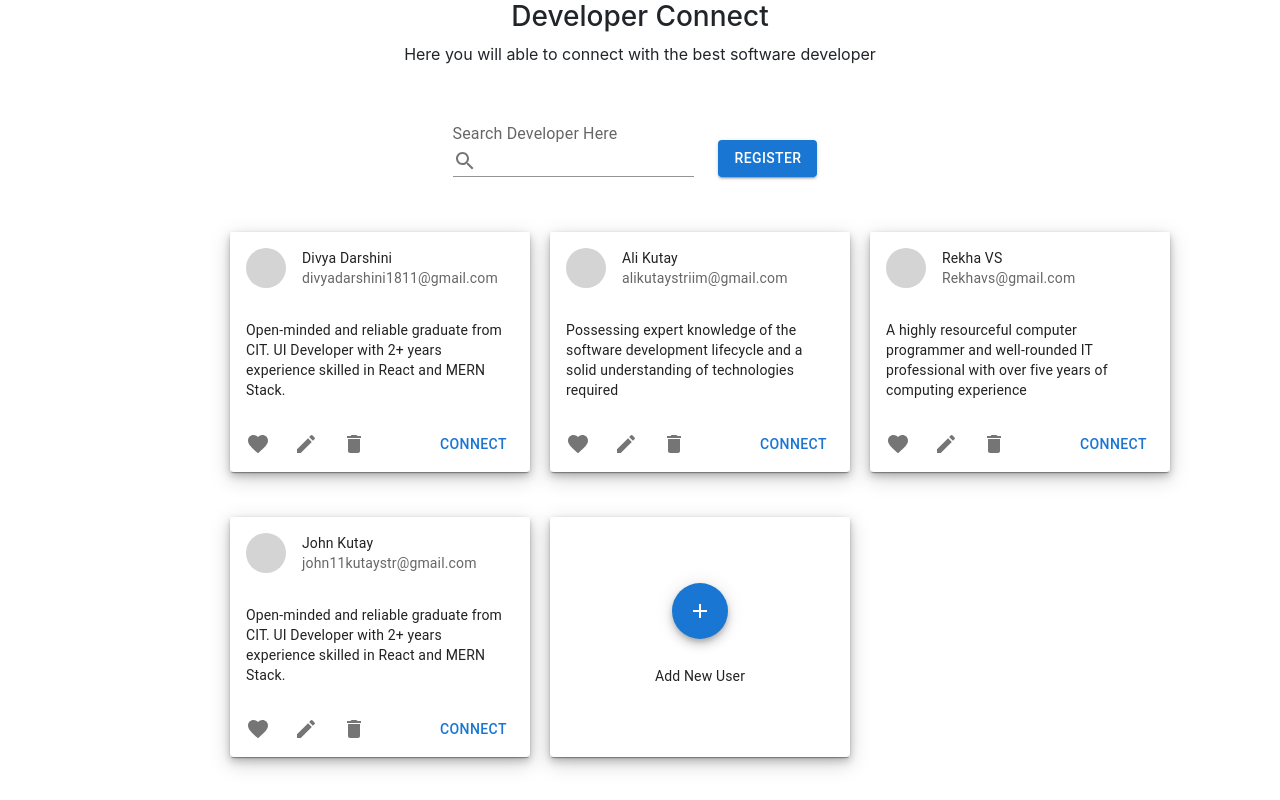
Adding new user test › Succesfully added new user
Click the button named "add" at (700, 611), box x1=672 y1=583 x2=728 y2=639
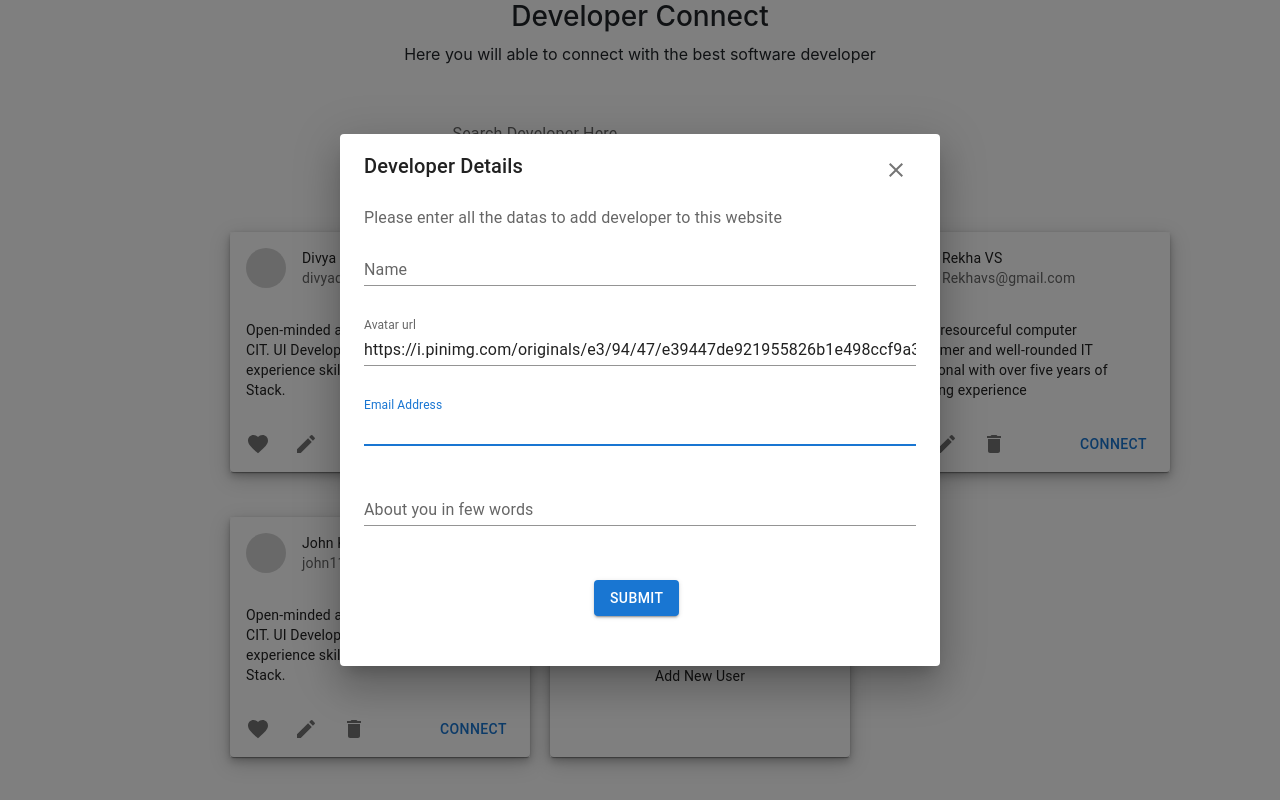
Type "Divia" into the field with id "name" at (640, 270), box x1=364 y1=254 x2=916 y2=286
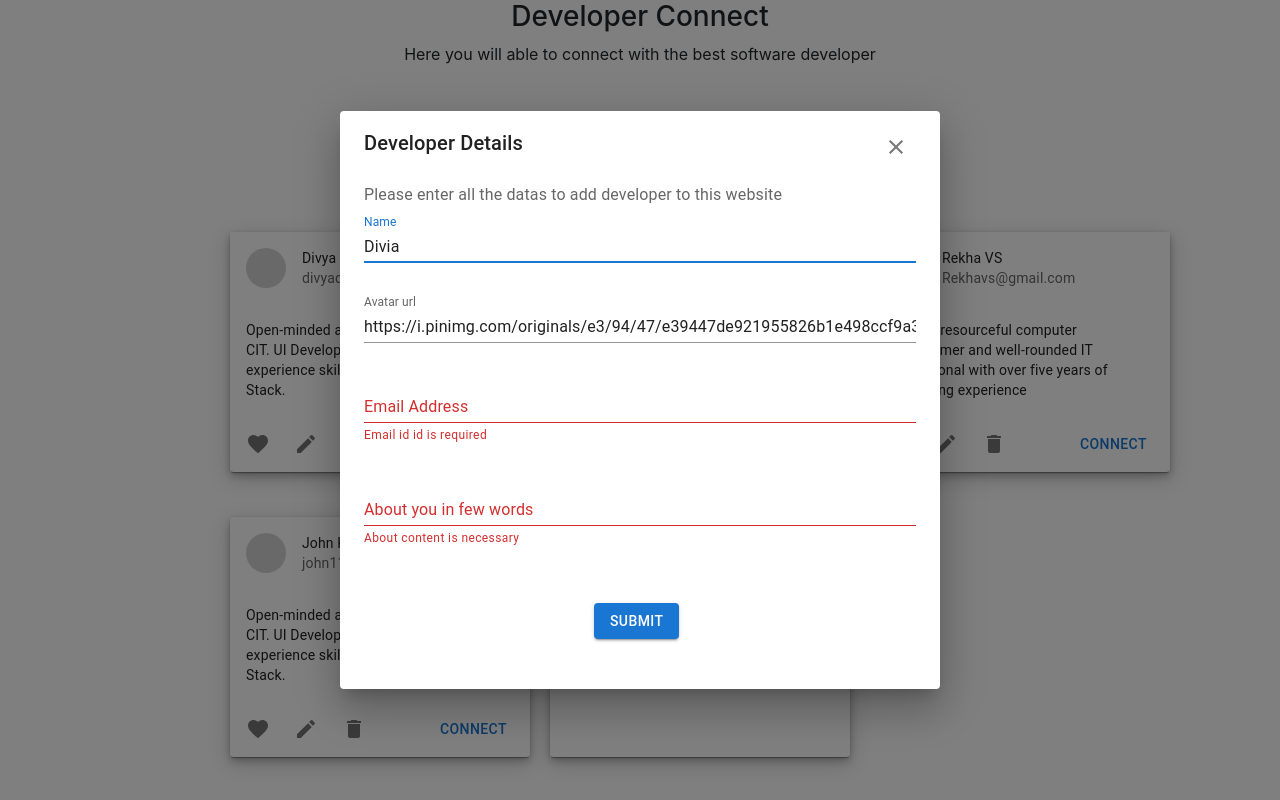
Type "dd123@gmail.com" into the field with id "email" at (640, 407), box x1=364 y1=391 x2=916 y2=423
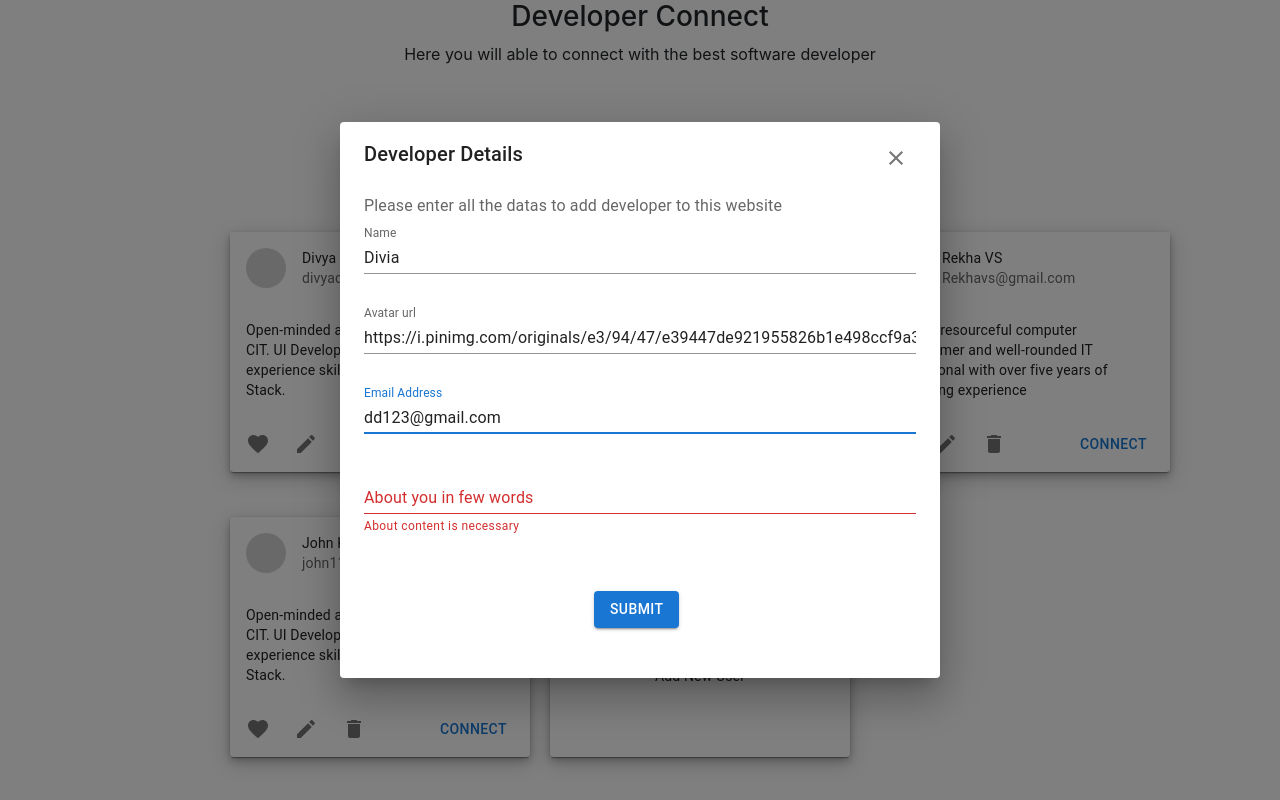
Type "Hi I am a web developer from CIT. I work on MERN" into the field labelled "About you in few words" at (640, 498), box x1=364 y1=482 x2=916 y2=514
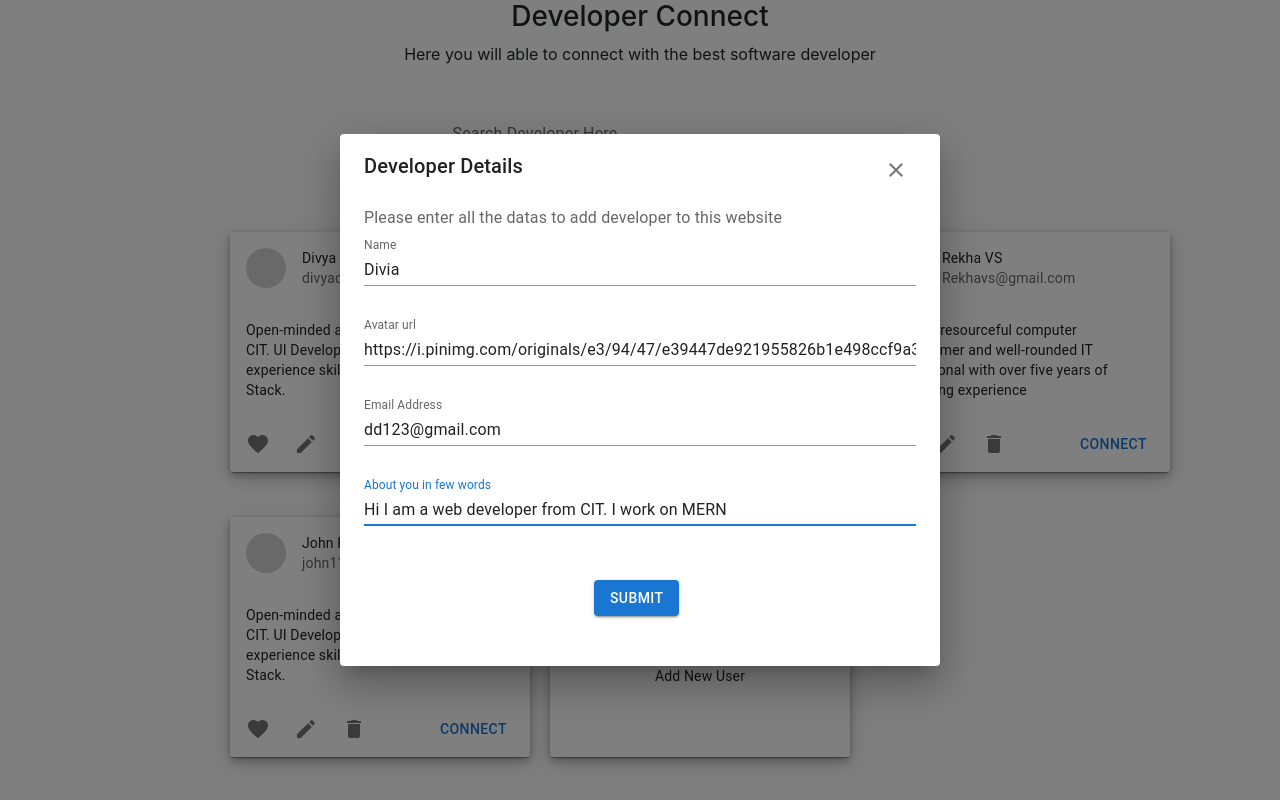
Click the button "Submit" at (637, 599), box x1=594 y1=580 x2=679 y2=617
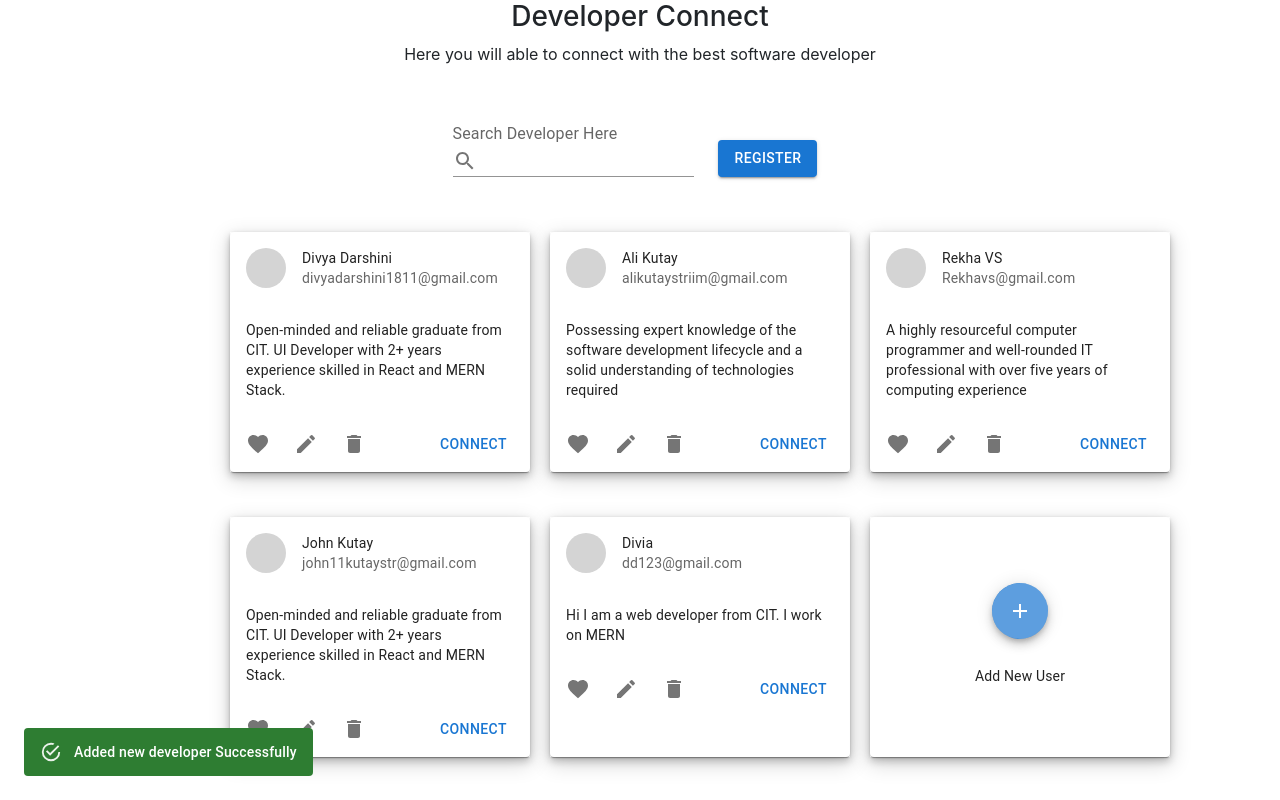
Check: the text "Added new developer Successfully" is shown, box x1=74 y1=744 x2=297 y2=760
